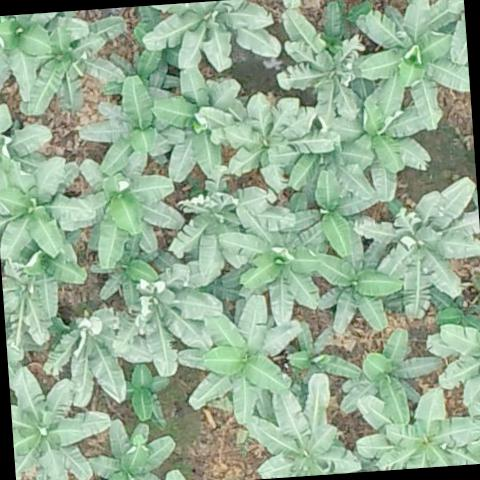Banana-plant: (351, 177, 480, 321), (354, 0, 472, 134), (176, 301, 302, 426), (62, 151, 183, 273), (336, 80, 450, 206), (166, 174, 300, 276), (107, 266, 228, 378), (243, 372, 364, 480), (9, 367, 115, 480), (227, 88, 337, 196), (271, 3, 369, 122), (76, 69, 176, 180), (354, 385, 480, 472), (42, 304, 146, 408), (18, 18, 125, 117), (154, 64, 242, 182), (312, 226, 403, 338), (0, 240, 90, 352), (0, 151, 91, 259), (339, 326, 433, 428), (238, 220, 326, 328), (143, 0, 279, 66), (294, 163, 376, 262), (428, 303, 480, 414), (88, 416, 178, 480), (0, 12, 59, 99), (286, 318, 354, 390), (120, 361, 174, 435)
